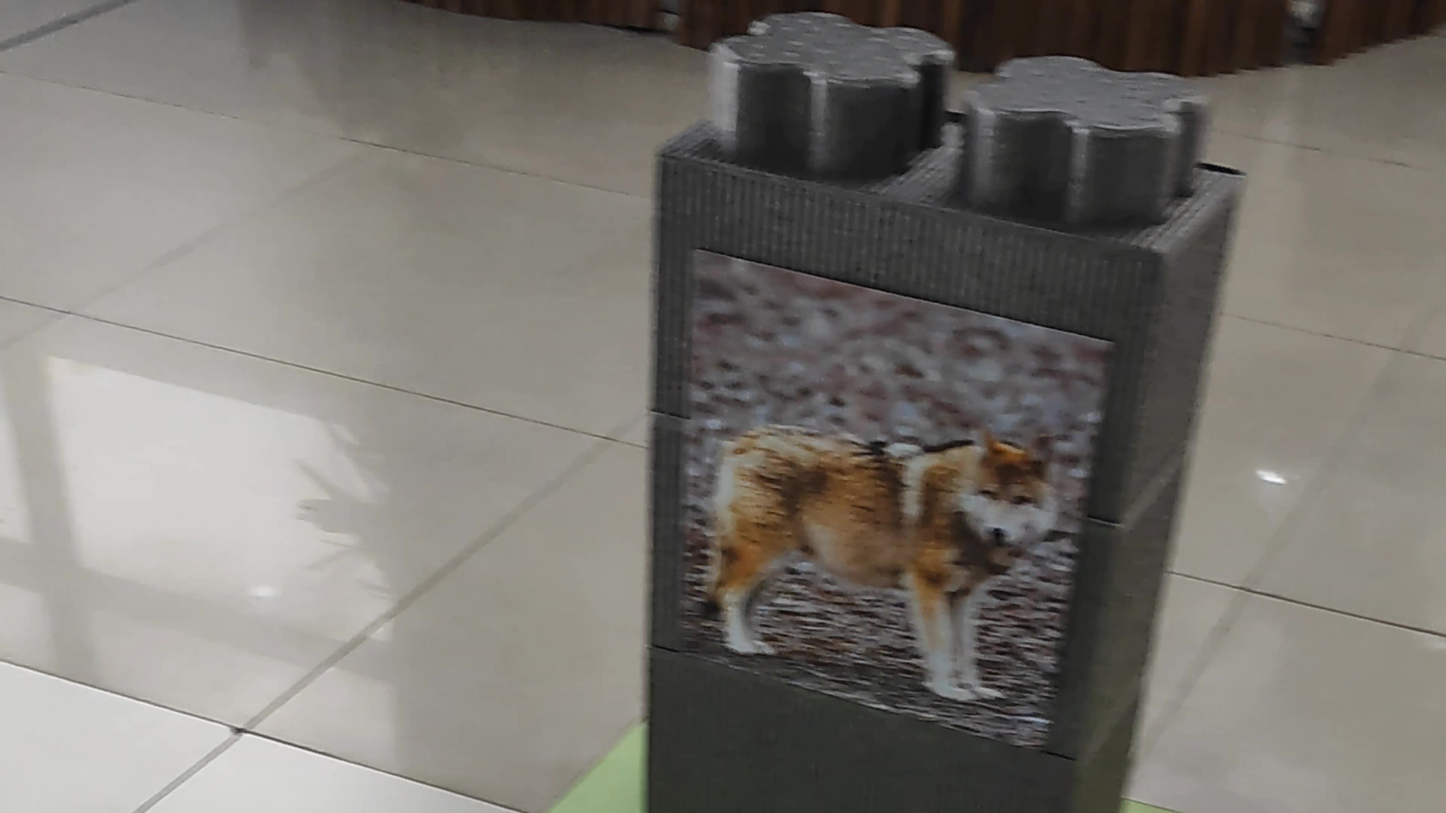wolf: (674, 336, 1068, 691)
